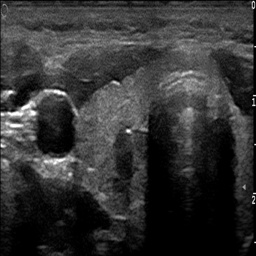mass: (111, 127, 135, 195)
